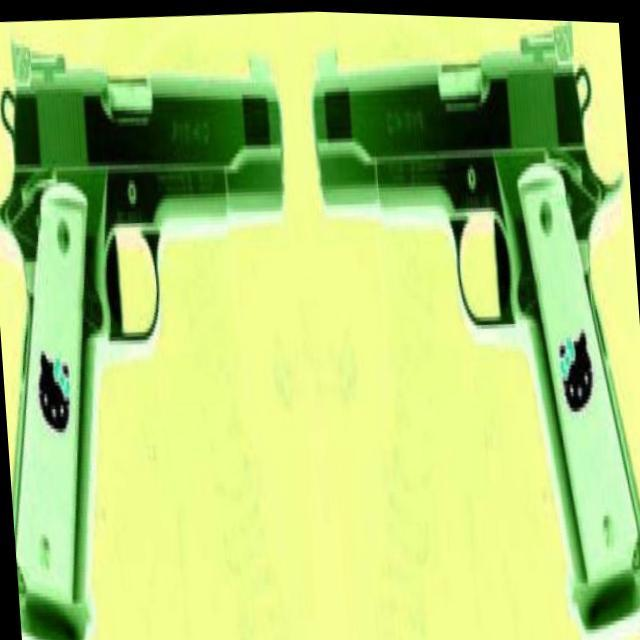weapon: (304, 9, 640, 640), (0, 16, 318, 640)
